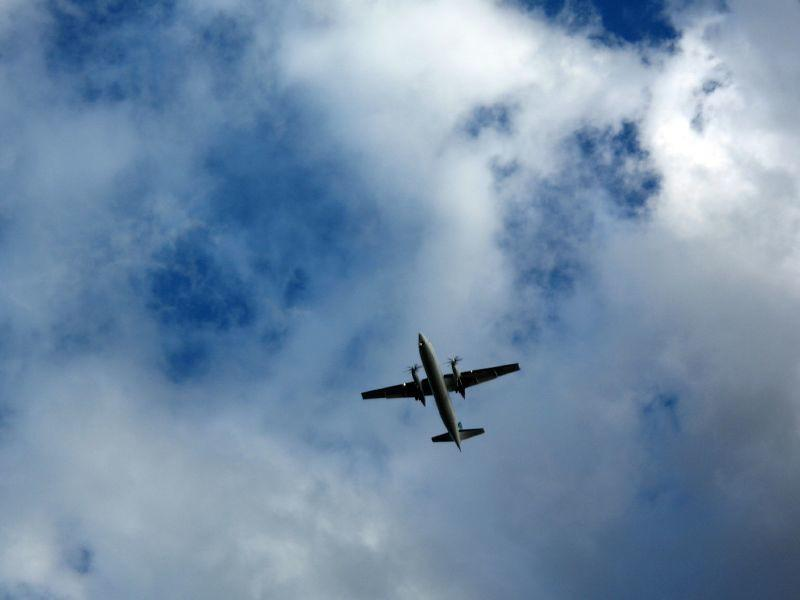plane: (361, 332, 521, 453)
